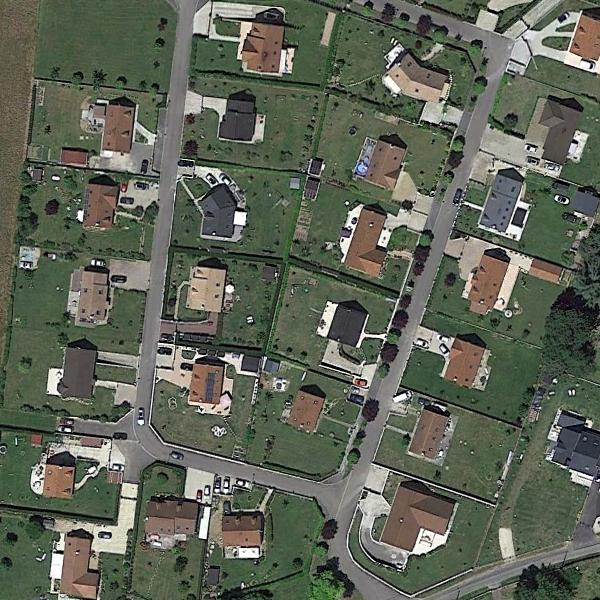Buildings: (360, 494, 460, 548), (555, 412, 600, 491), (343, 208, 390, 278), (525, 99, 575, 163), (53, 540, 104, 600), (389, 53, 445, 98), (65, 274, 112, 326), (435, 346, 489, 391), (197, 189, 239, 244), (479, 184, 519, 241), (567, 8, 600, 74), (464, 263, 510, 310), (233, 23, 282, 65), (143, 499, 200, 535), (213, 103, 262, 143), (185, 369, 230, 406), (287, 389, 325, 431), (180, 275, 225, 309), (412, 413, 443, 458), (319, 309, 365, 339), (225, 510, 265, 543), (85, 189, 117, 224), (68, 349, 90, 399), (42, 464, 75, 495), (104, 109, 127, 150), (368, 150, 398, 181), (100, 104, 103, 105)
